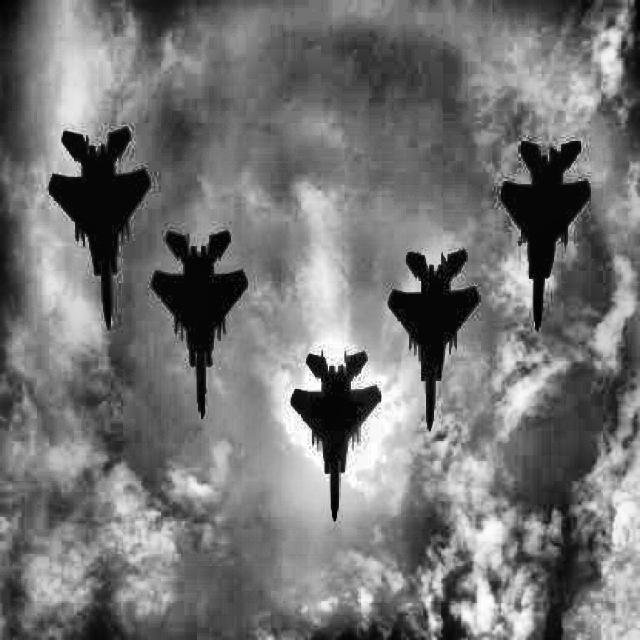F15: (48, 127, 152, 330), (152, 230, 248, 419), (499, 139, 592, 333), (388, 248, 480, 432), (290, 350, 381, 521)
